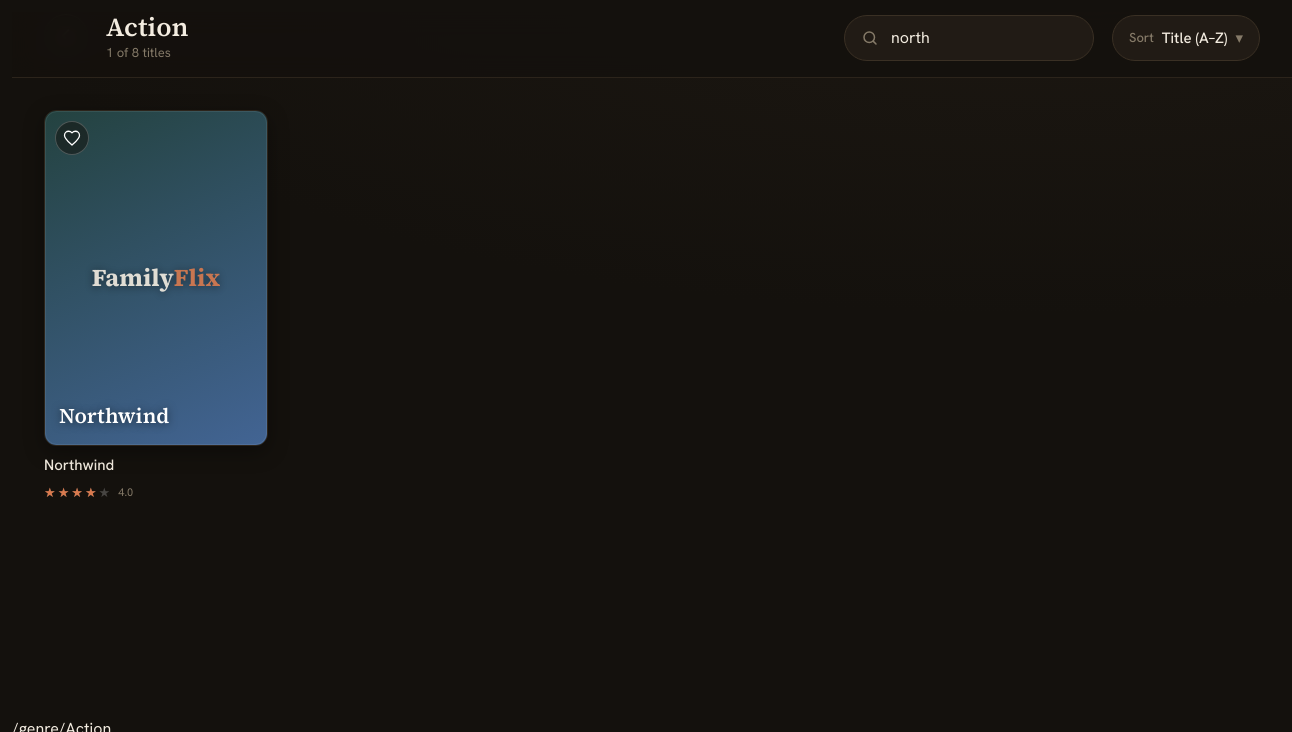
App — the genre screen behind “View all” › lands back on the narrowed grid, where the parent left it
This screenshot has width=1292, height=732.
(page scrolled)
Expected: the text "1 of 8 titles" is shown, [106,44,171,61]
Click the 1st text "Northwind" at point(114, 415), box [59,401,170,430]
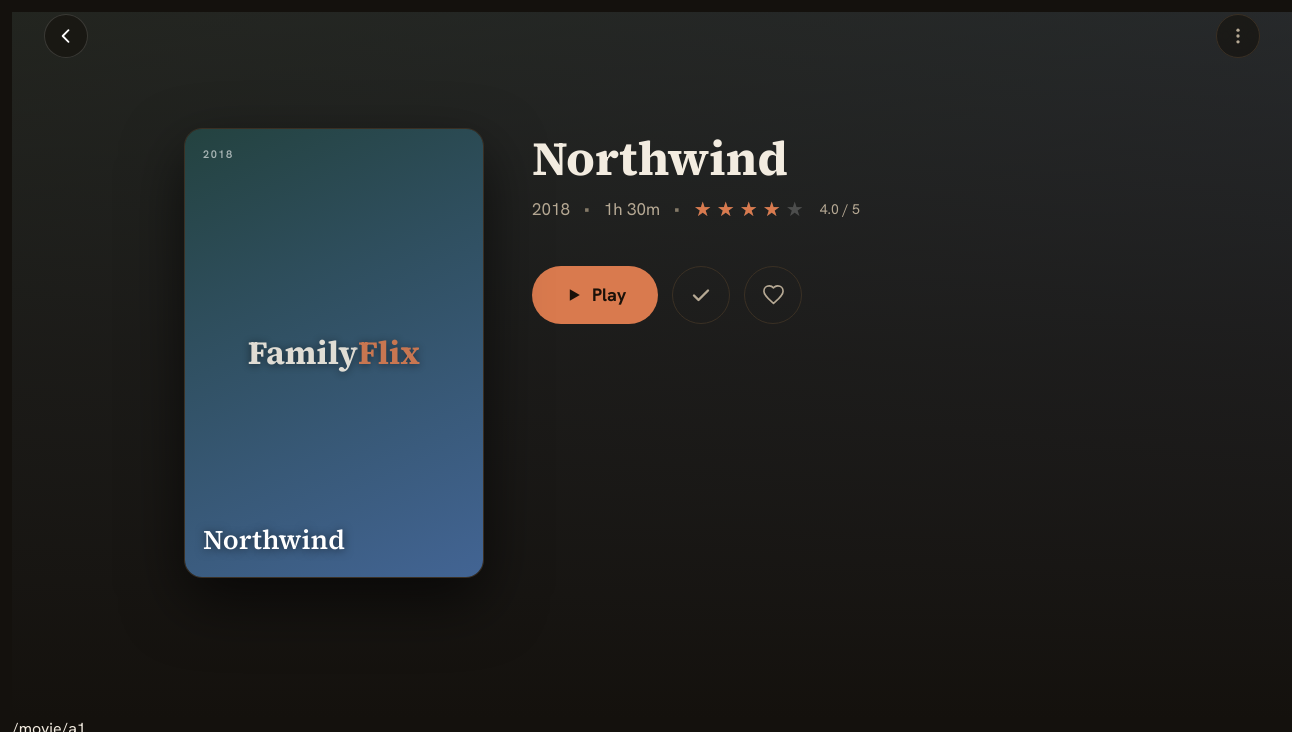
Expected: the heading "Northwind" is shown, [532,125,788,191]
Click the button named "Back" at point(66, 36), box [44,14,88,58]
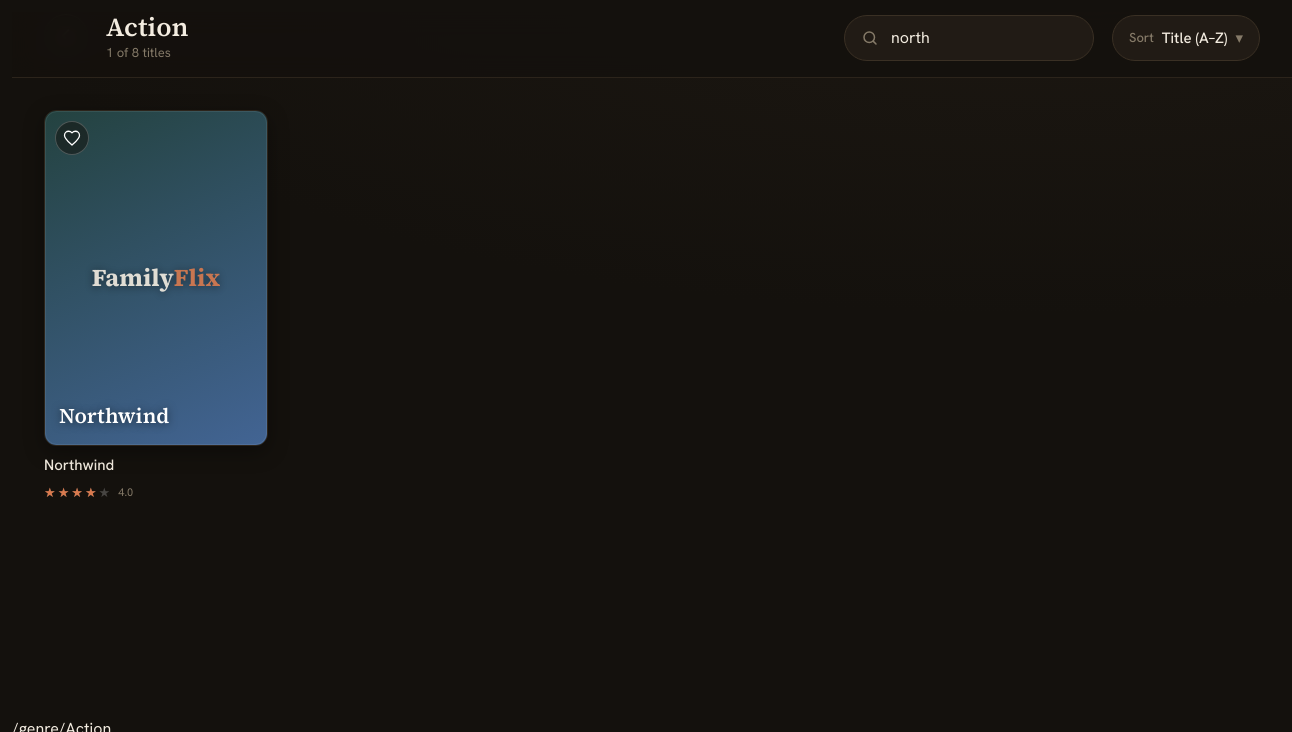
Now the text with test id "pathname" reads "/genre/Action", box [12,718,111,731]
Now the text "1 of 8 titles" is shown, box [106,44,171,61]
